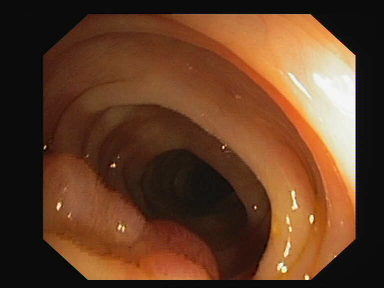polyp: (42, 145, 229, 278)
